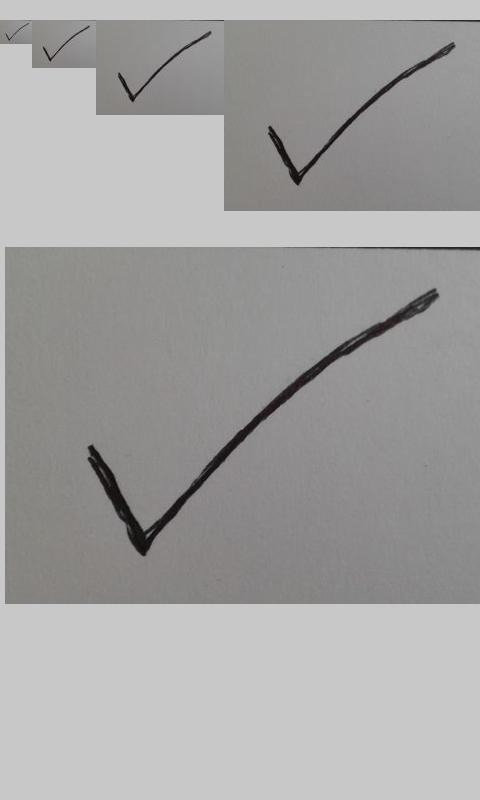check_box: (89, 291, 437, 558), (268, 43, 454, 185), (118, 31, 211, 102), (43, 26, 89, 62), (5, 23, 28, 41)
